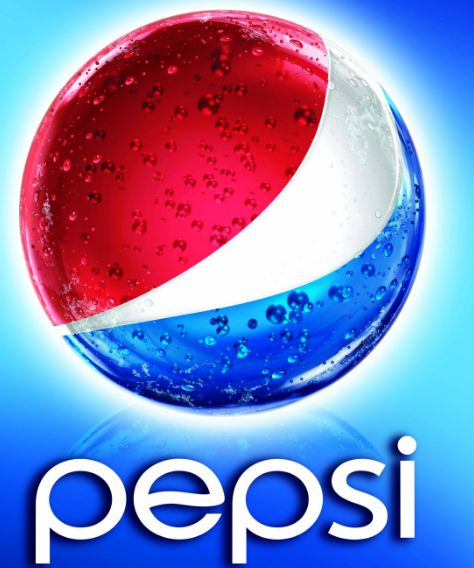pepsi: (14, 8, 425, 413), (14, 8, 423, 413), (17, 8, 412, 411), (14, 206, 423, 413)
